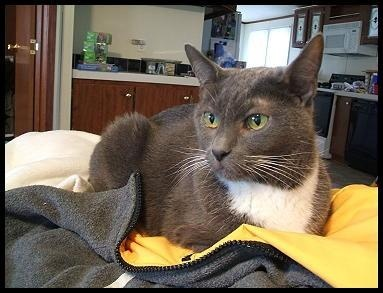cat: (89, 34, 333, 250)
